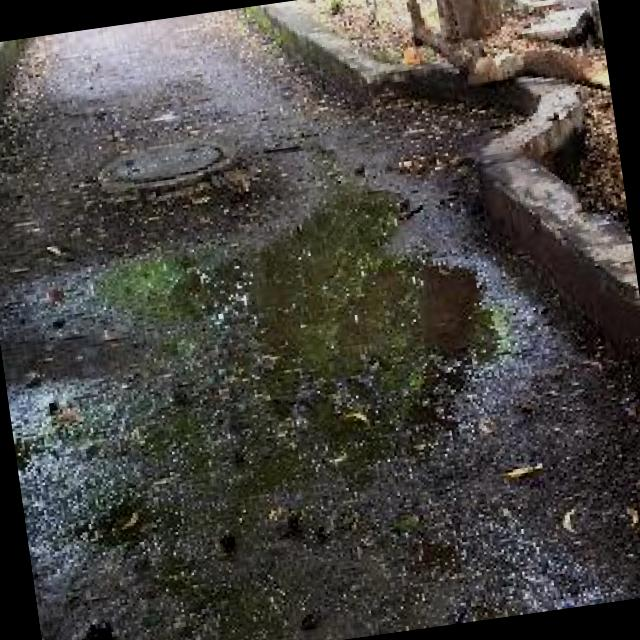stagnation: (259, 163, 516, 450)
